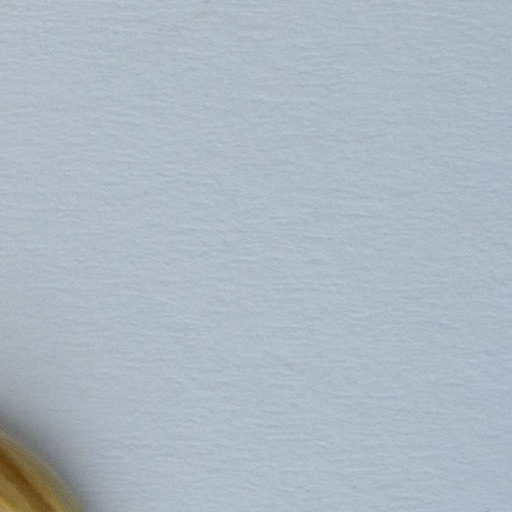Peel-poly: (0, 431, 85, 511)
